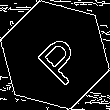P_NW: (24, 24, 86, 86)
